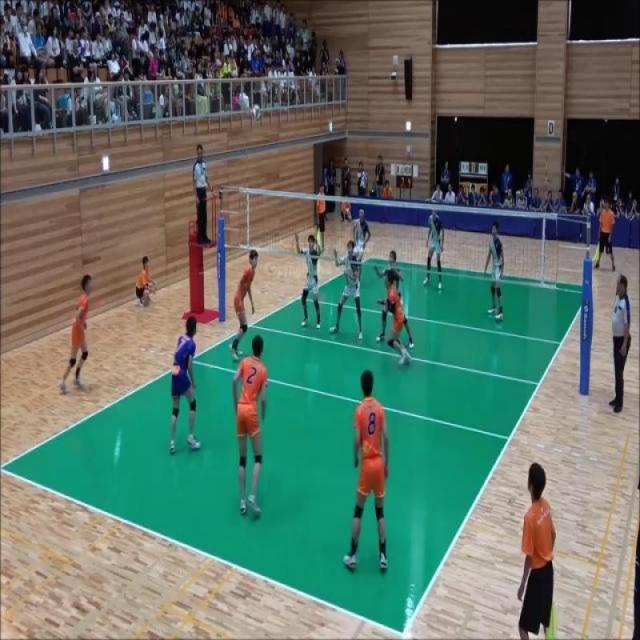volleyball: (251, 103, 262, 122), (346, 208, 350, 215)
